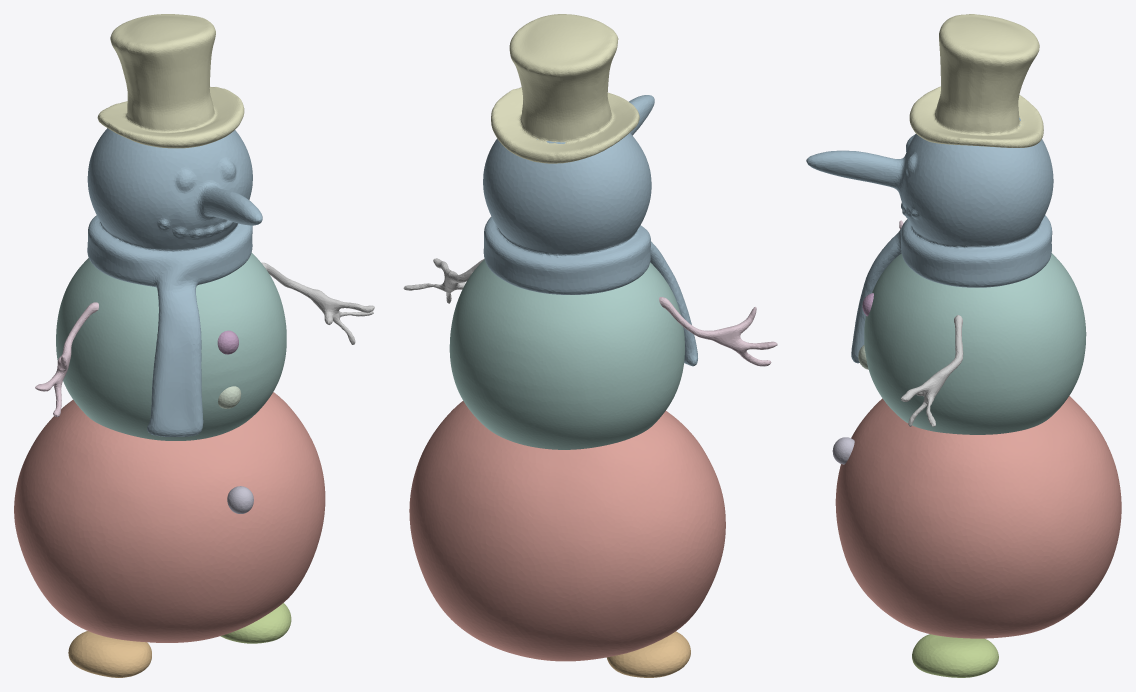
File: snowman.glb
3 renders of one model, left to right at view 1: azimuth 30°, elevation 25°; view 2: azimuth 150°, elevation 25°; view 3: azimuth 270°, elevation 25°, orthographic. The views are drawn at different scales.
Visible parts, largest first — view 1: world; view 2: world; view 3: world.
Part boxes in pixels (<box>): world: <box>14,14,374,677</box>; world: <box>403,14,777,677</box>; world: <box>806,14,1121,677</box>.
Bounding box in the file's own units: 1.15 × 1.91 × 0.9019.
